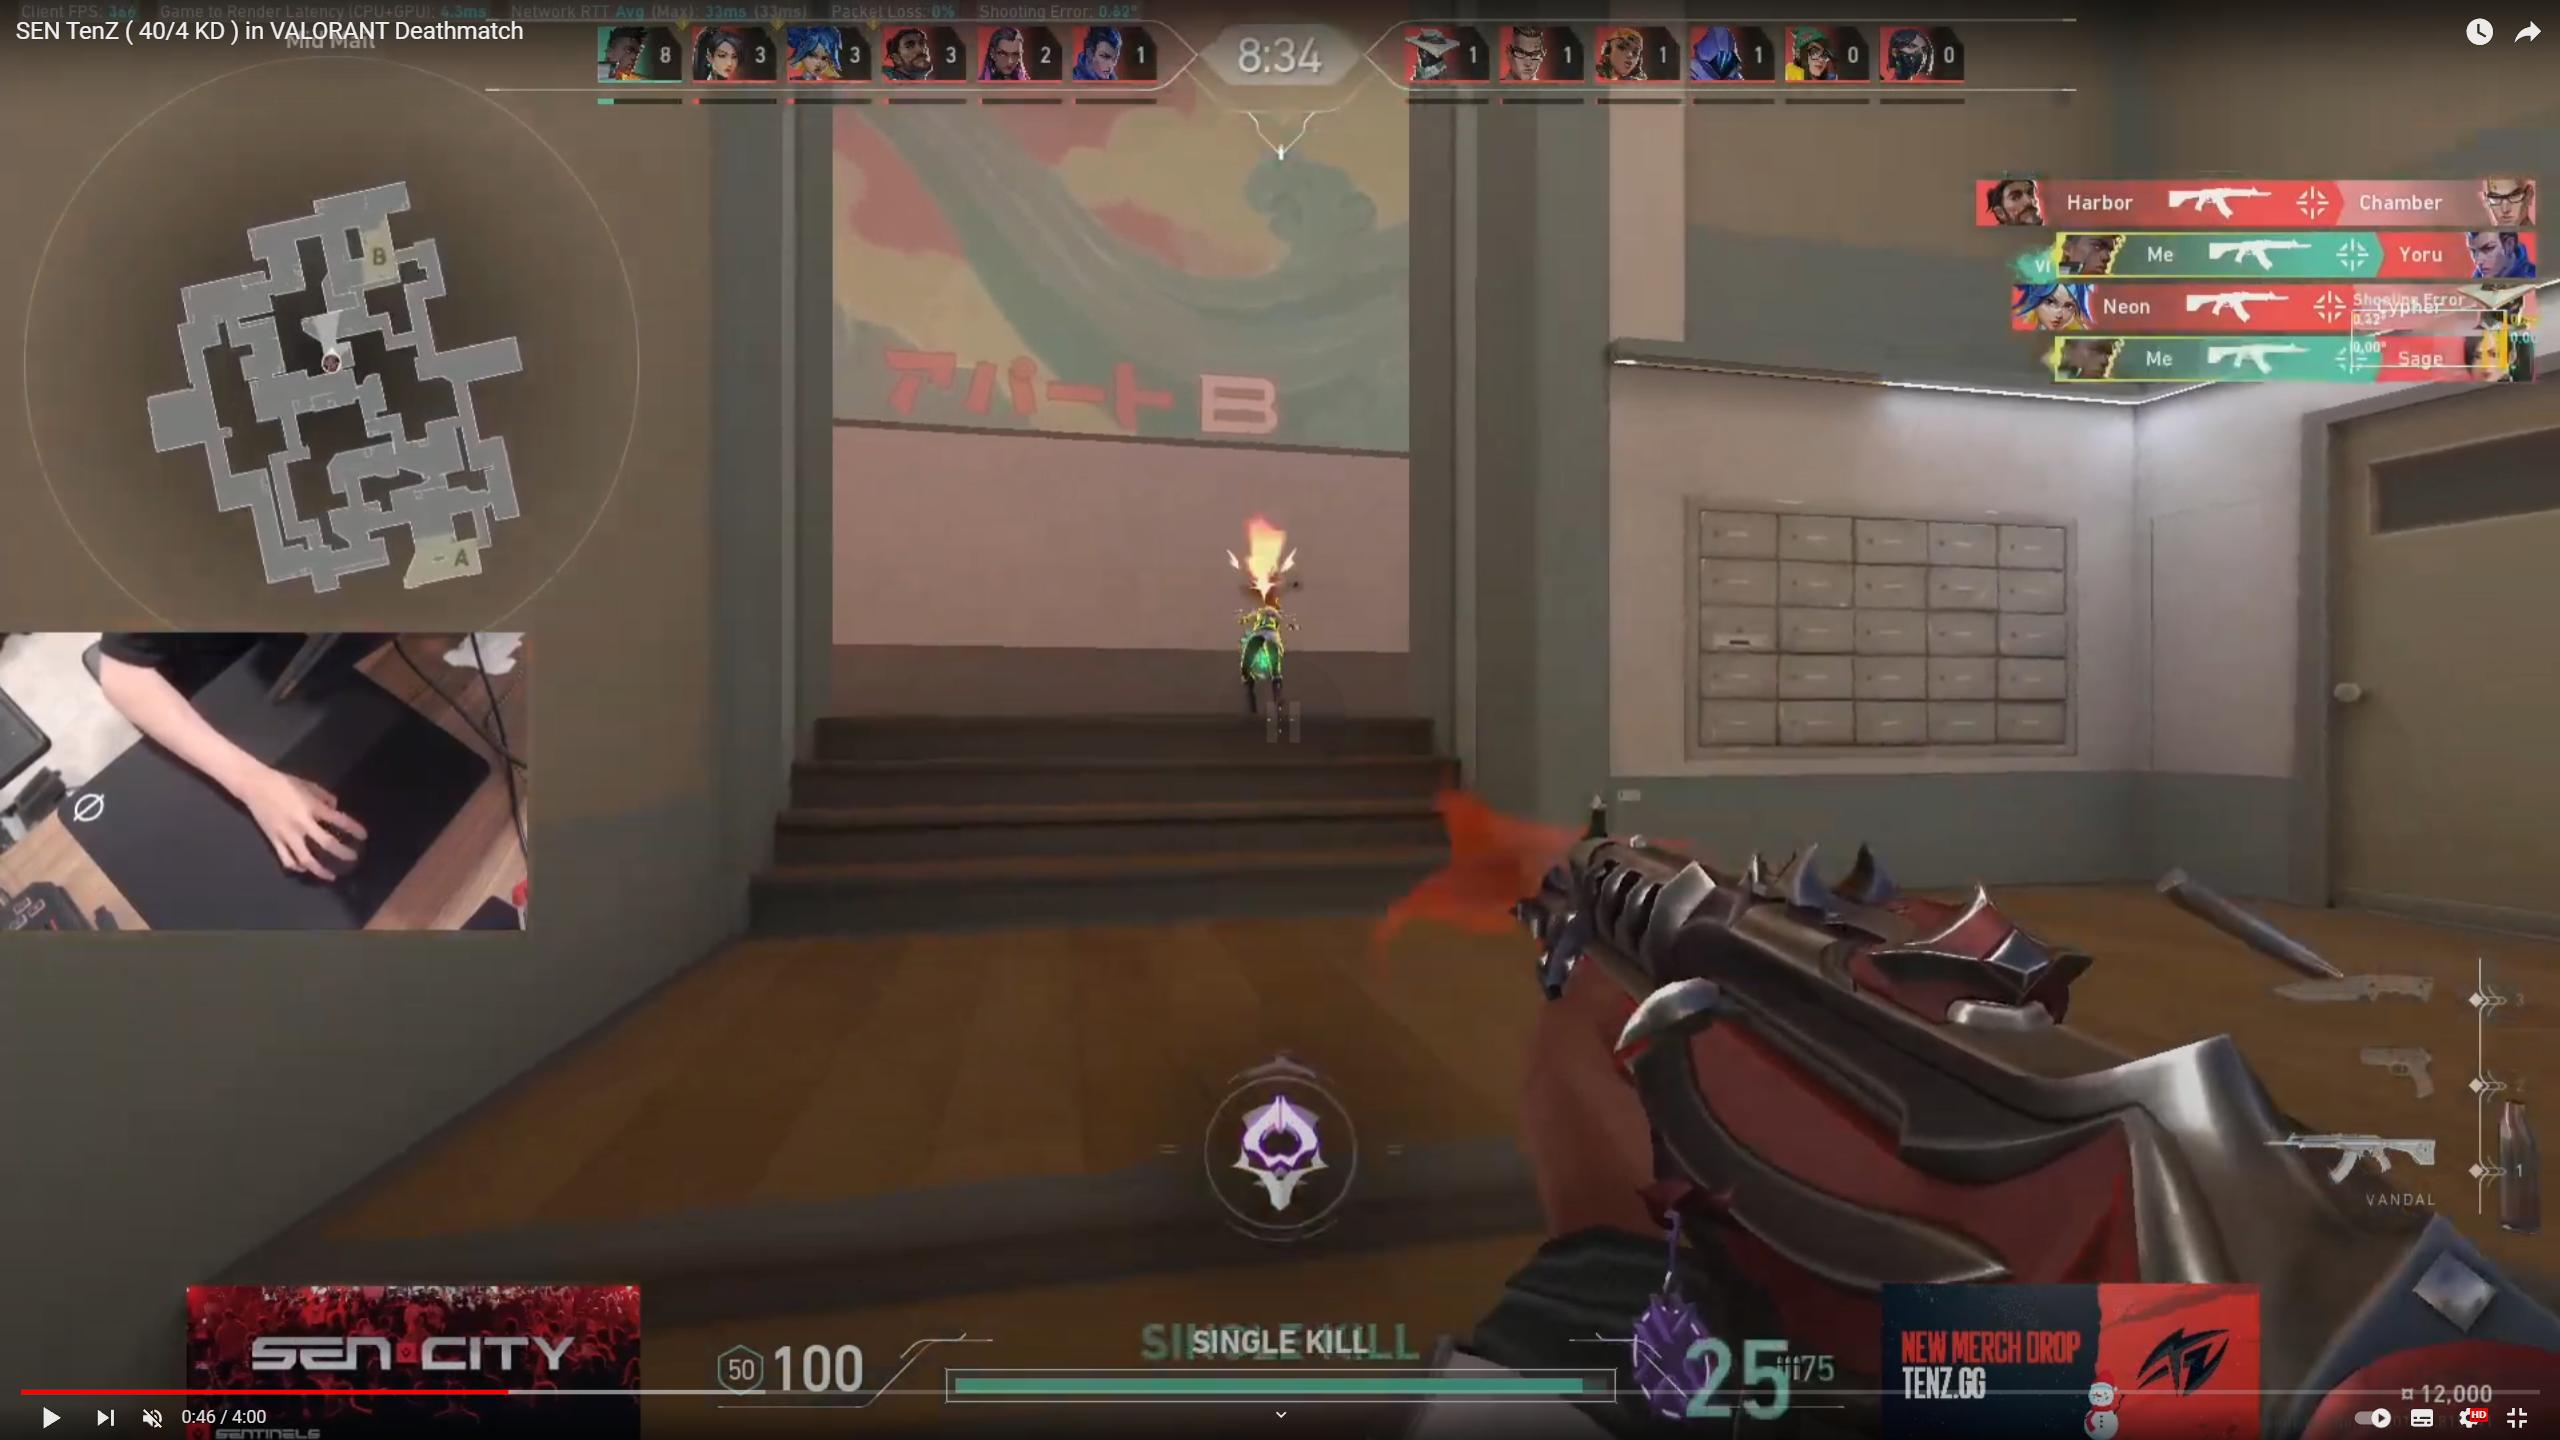enemyHead: (1236, 527, 1296, 600)
